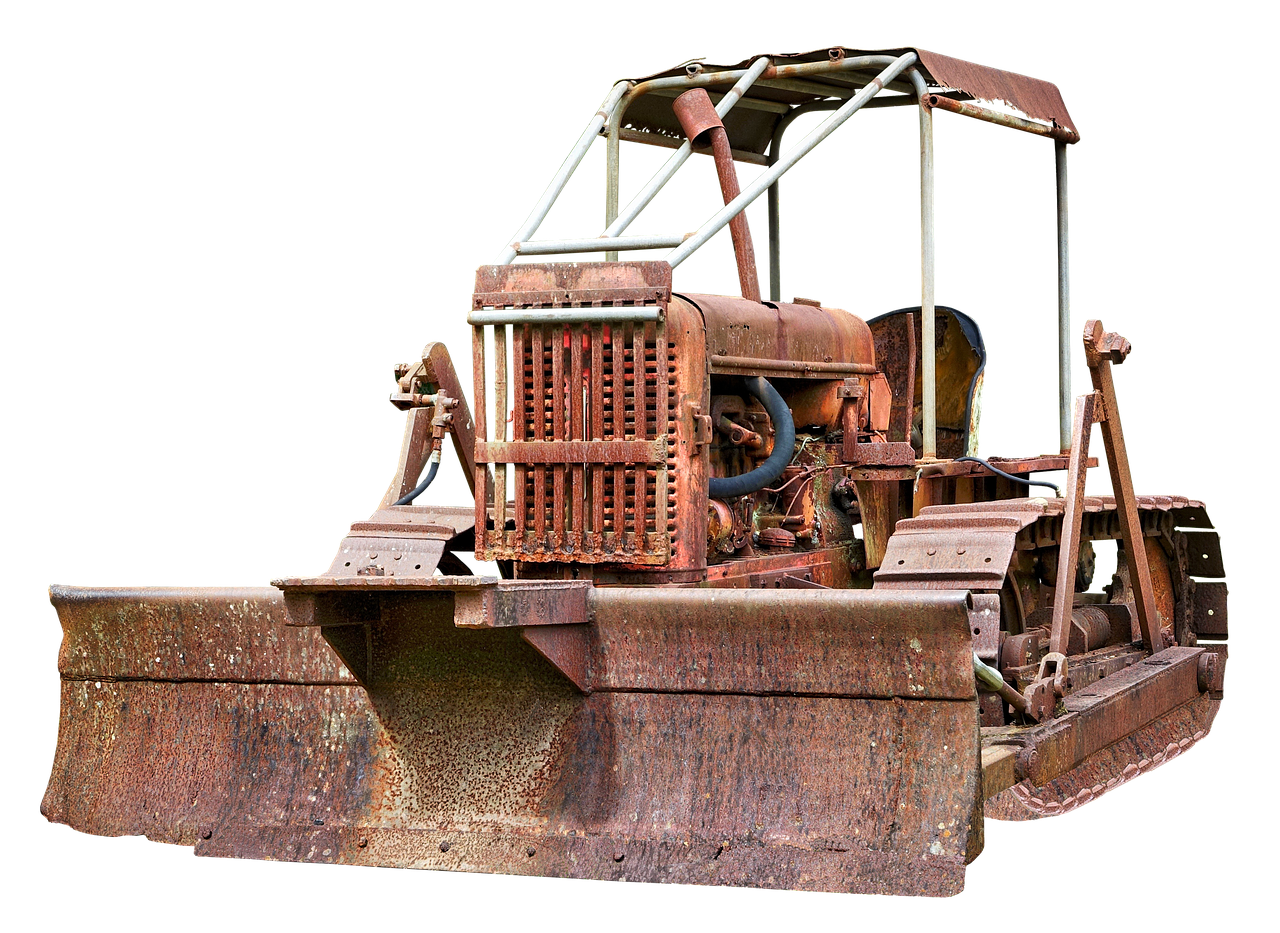bulldozer: (33, 36, 1241, 905)
